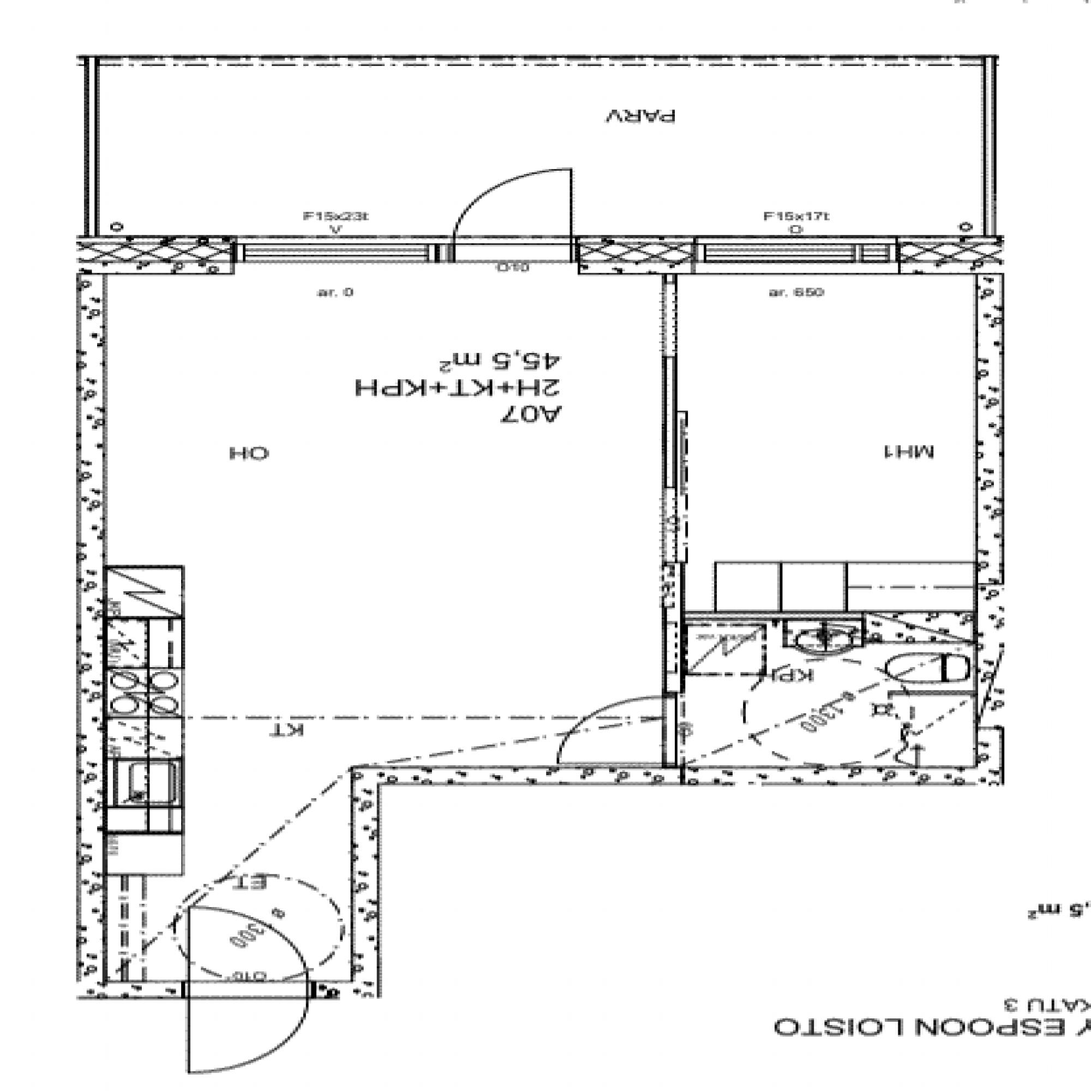wall: (78, 234, 105, 999), (580, 234, 1004, 274), (976, 234, 1004, 784), (350, 767, 1004, 785), (233, 234, 580, 262), (350, 767, 377, 999), (78, 234, 233, 274), (78, 982, 377, 999), (865, 612, 1004, 643), (662, 274, 675, 563), (662, 563, 683, 692), (684, 612, 865, 620), (662, 692, 675, 785)
